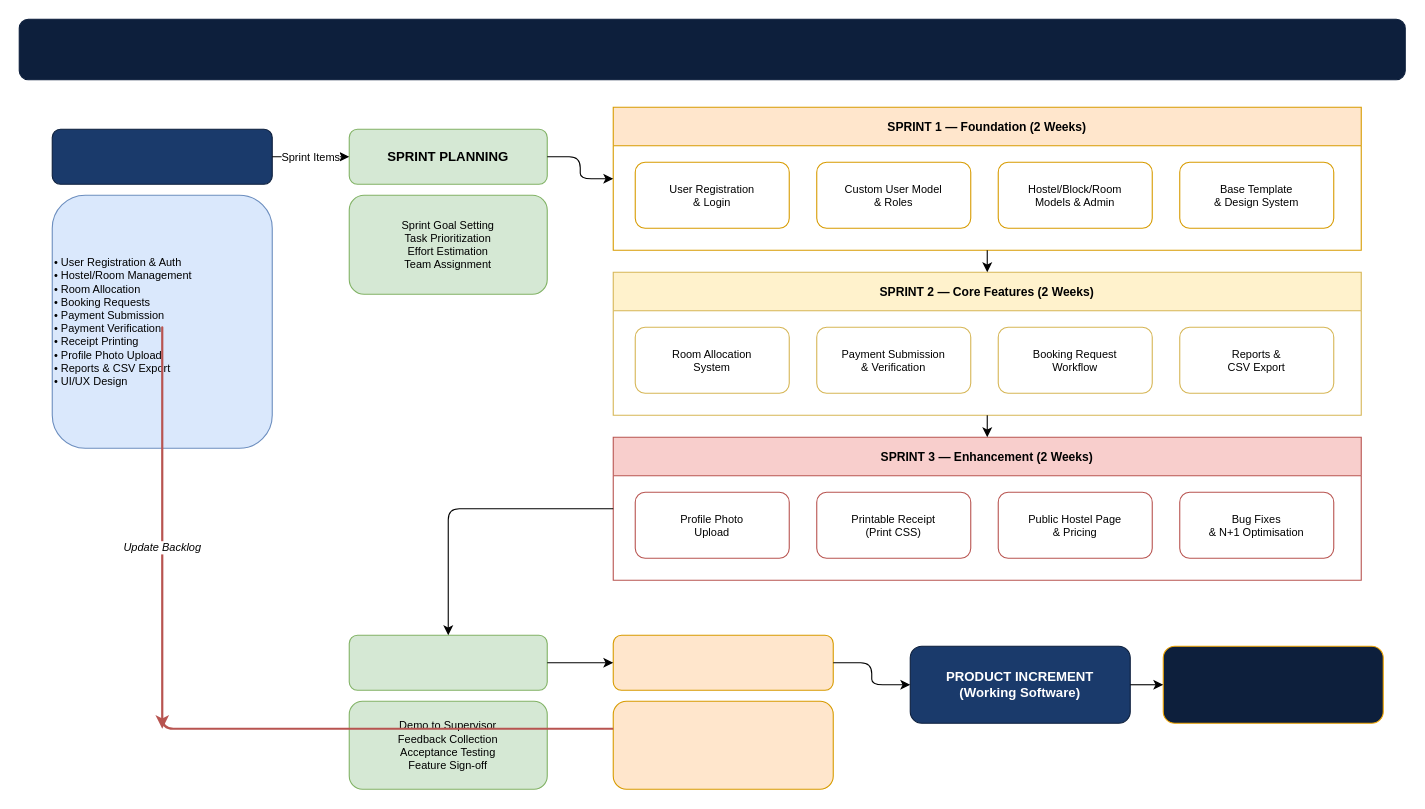
This 1425x809 diagram has some shape labels left out. The centre of each missing label's shape, as x and y in pixels:
AGILE DEVELOPMENT METHODOLOGY — Scrum Framework: the point at 711,49
FINAL DELIVERY Hostel Management System v1.0: the point at 1272,684
PRODUCT BACKLOG: the point at 161,156
SPRINT RETROSPECTIVE: the point at 722,662
SPRINT REVIEW: the point at 447,662
What Went Well? What to Improve? Action Items Process Refinement: the point at 722,744
